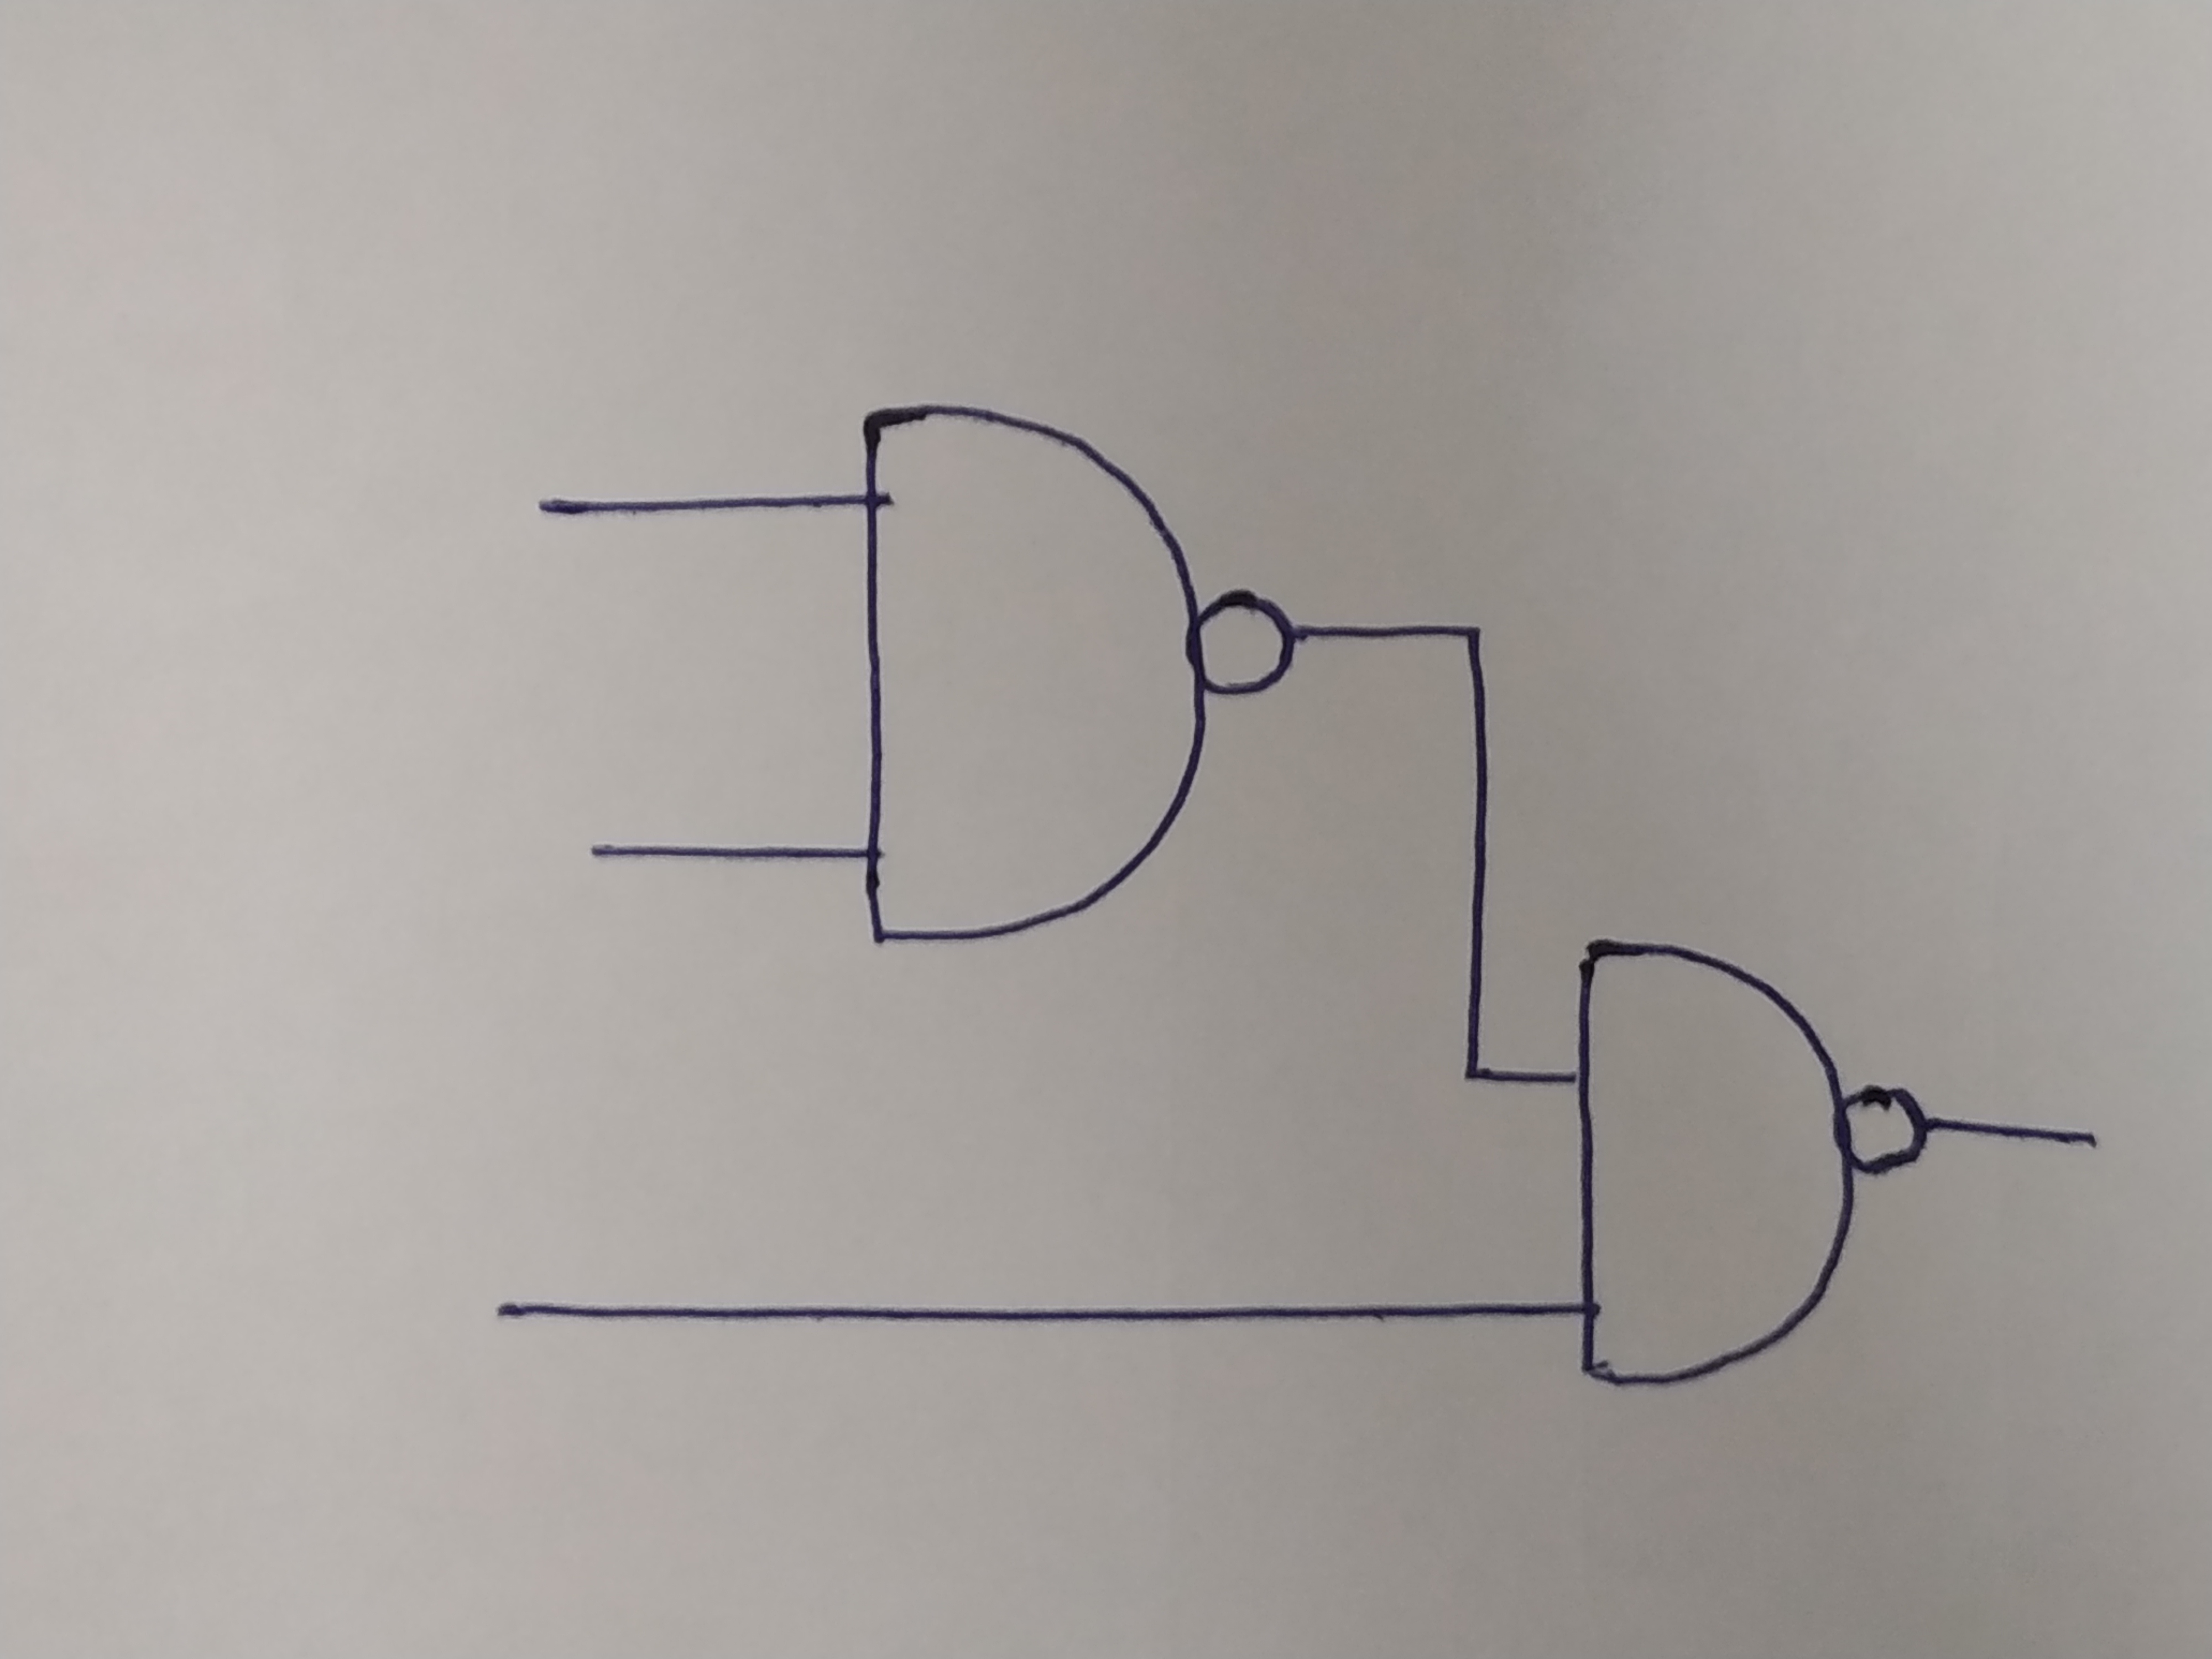and: (860, 404, 1202, 941), (1569, 941, 1851, 1387)
not: (1198, 591, 1296, 687), (1848, 1079, 1926, 1173)
